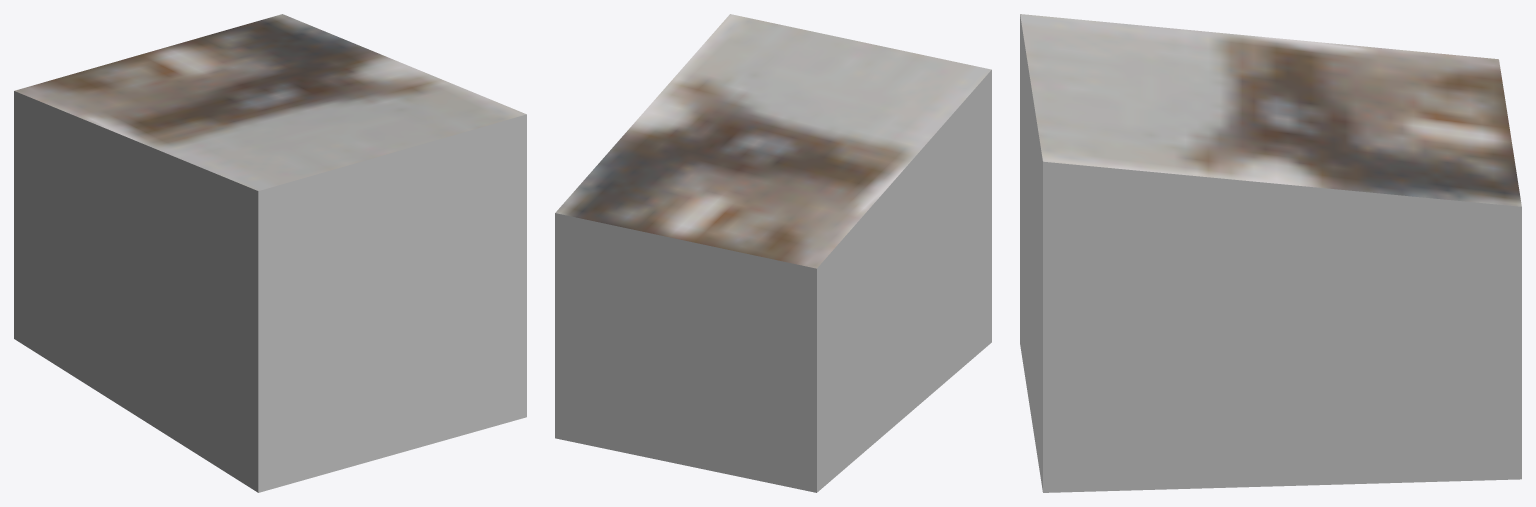
Rendered from DEBW_0010007Txab.gltf.
3 renders of one model, left to right at view 1: azimuth 30°, elevation 25°; view 2: azimuth 150°, elevation 25°; view 3: azimuth 270°, elevation 25°, orthographic. The views are drawn at different scales.
Parts seen in each view (by area): view 1: Z_UP; view 2: Z_UP; view 3: Z_UP.
Part boxes in pixels (box(x1,y1,x2,y2)): Z_UP: box(14, 14, 526, 492); Z_UP: box(555, 14, 991, 492); Z_UP: box(1020, 14, 1521, 492).
Bounding box in the file's own units: 6.71 × 6.38 × 8.76.
Materials: 2 (1 with a texture image).
